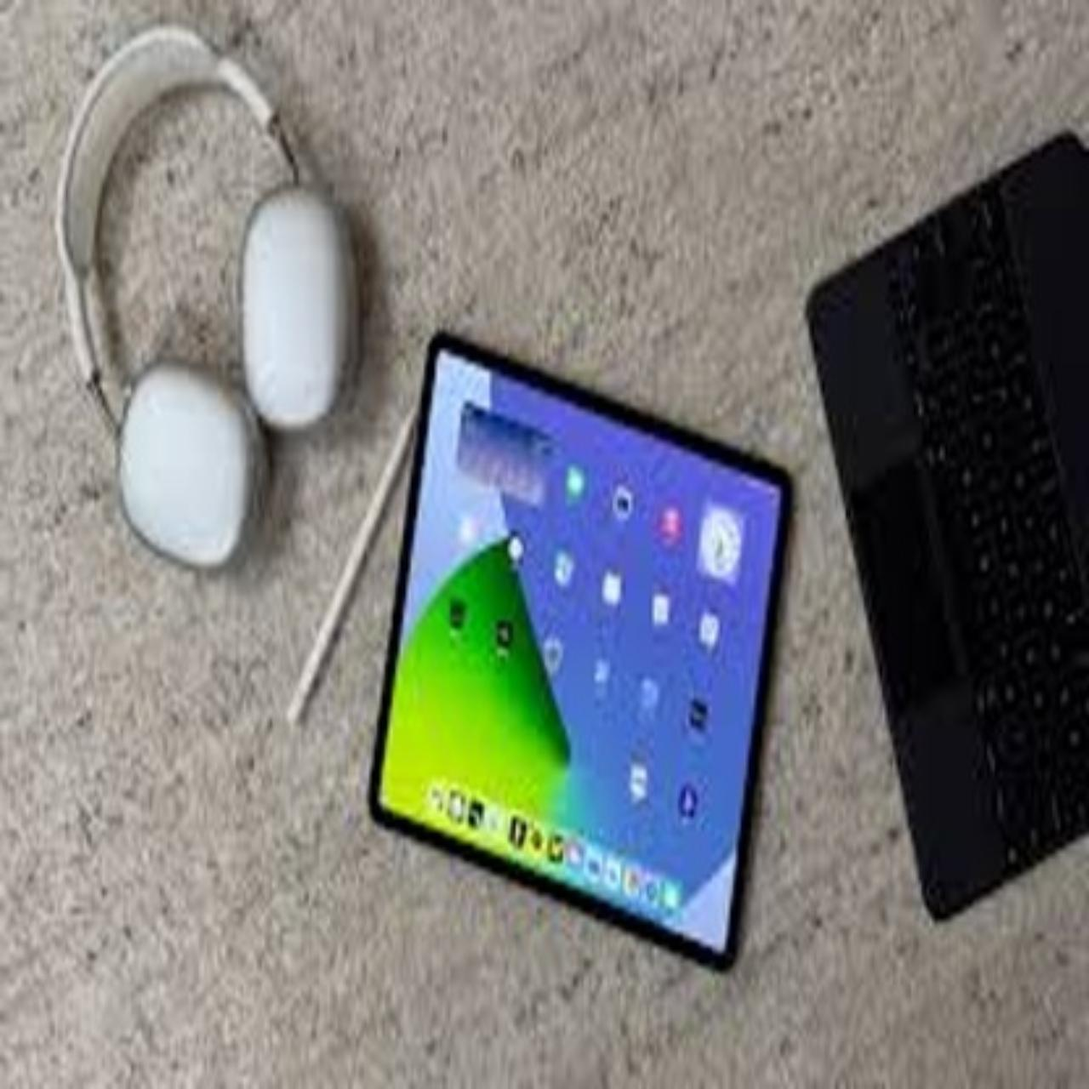Tablet_PC: (338, 332, 806, 986)
